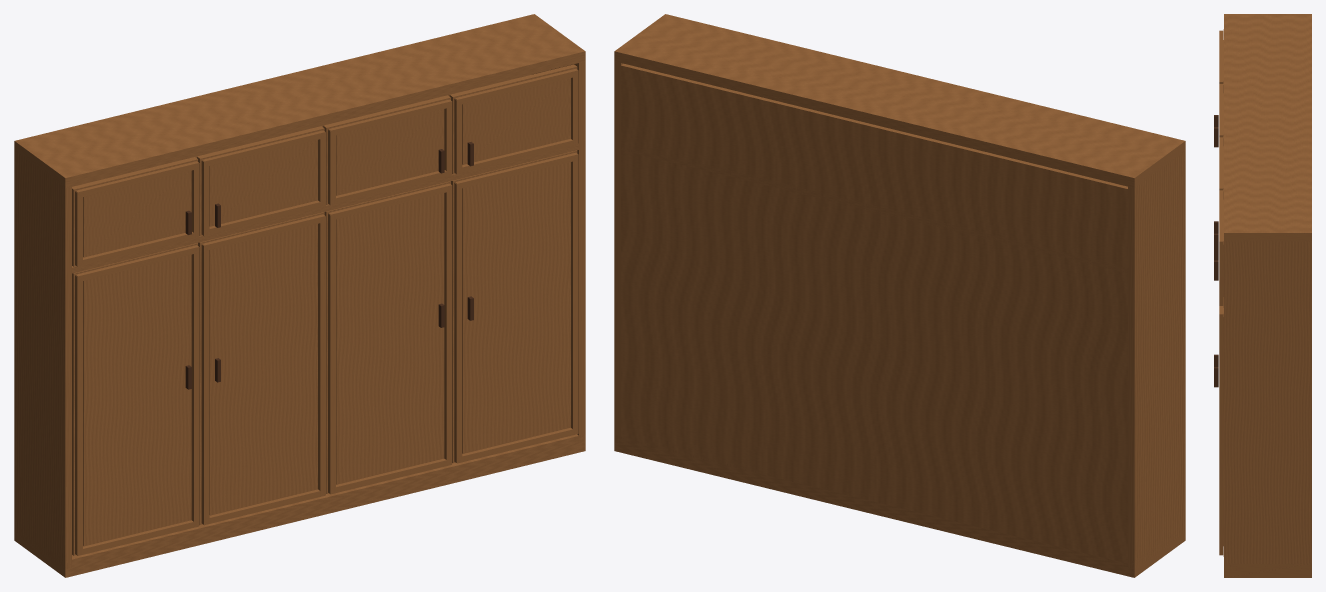
The model's file is wardrobe.glb.
3 views of the same model, side by side, from view 1: azimuth 30°, elevation 25°; view 2: azimuth 150°, elevation 25°; view 3: azimuth 270°, elevation 25° (orthographic). The views are drawn at different scales.
Parts seen in each view (by area): view 1: inset-panel (×8), wood (×29), lower-door-4, lower-door-1, lower-door-2, lower-door-3, upper-door-4, upper-door-1, upper-door-2, upper-door-3; view 2: wood (×6); view 3: wood (×9), lower-door-4, inset-panel.
Part boxes in pixels (<box>): inset-panel (×8): <box>83,78,569,545</box>; wood (×29): <box>14,14,585,577</box>; lower-door-4: <box>451,150,577,463</box>; lower-door-1: <box>72,243,197,555</box>; lower-door-2: <box>198,212,324,524</box>; lower-door-3: <box>324,181,450,493</box>; upper-door-4: <box>449,64,577,174</box>; upper-door-1: <box>72,157,197,266</box>; upper-door-2: <box>197,126,324,235</box>; upper-door-3: <box>323,95,450,205</box>; wood (×6): <box>614,14,1185,577</box>; wood (×9): <box>1219,14,1311,577</box>; lower-door-4: <box>1223,308,1223,556</box>; inset-panel: <box>1223,297,1223,545</box>.
Size of the model in its own units: 3.24 by 2.38 by 0.611.
2 materials, 1 textured.
